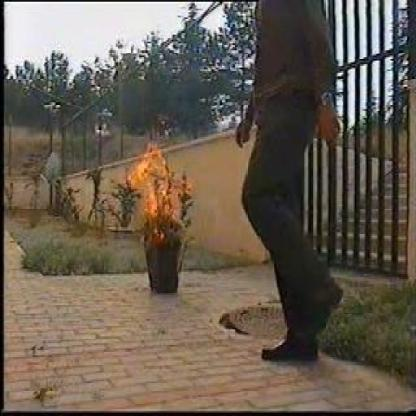foggia-v2-map80-epoch100 - v1 4323: (132, 143, 188, 233)
